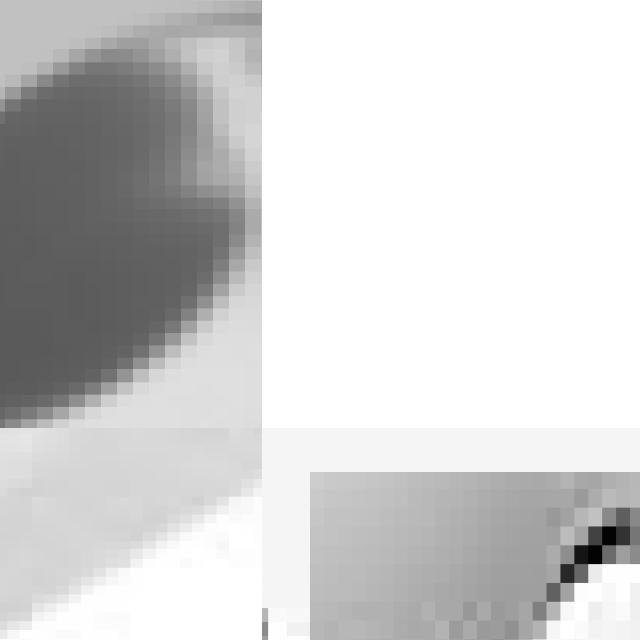spoons: (0, 0, 262, 428), (262, 540, 640, 640)
